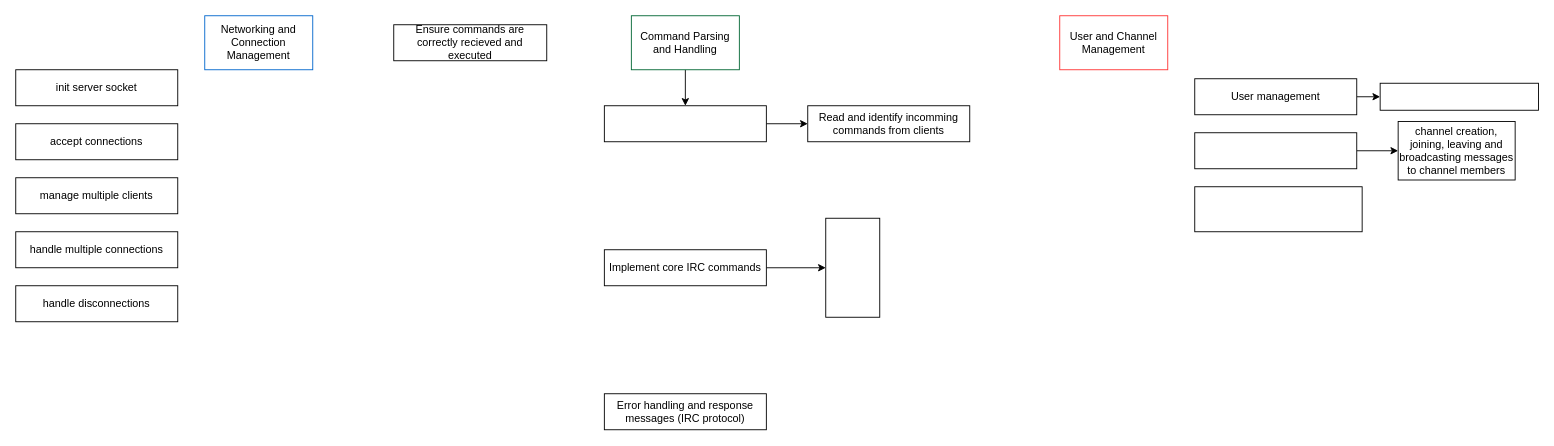
Image size: 1554x446. Some labels were removed from this diagram. The box of each missing label's shape, as (x1, y1, x2, y2) in pixels:
Channel management: (1194, 132, 1357, 169)
Command parser: (603, 105, 766, 142)
Handling data structures to store client and channel information: (1194, 186, 1362, 232)
NICK USER JOIN PART PRIVMSG QUIT etc.: (825, 217, 880, 317)
Storing nicknames, status, etc.: (1379, 82, 1539, 110)
